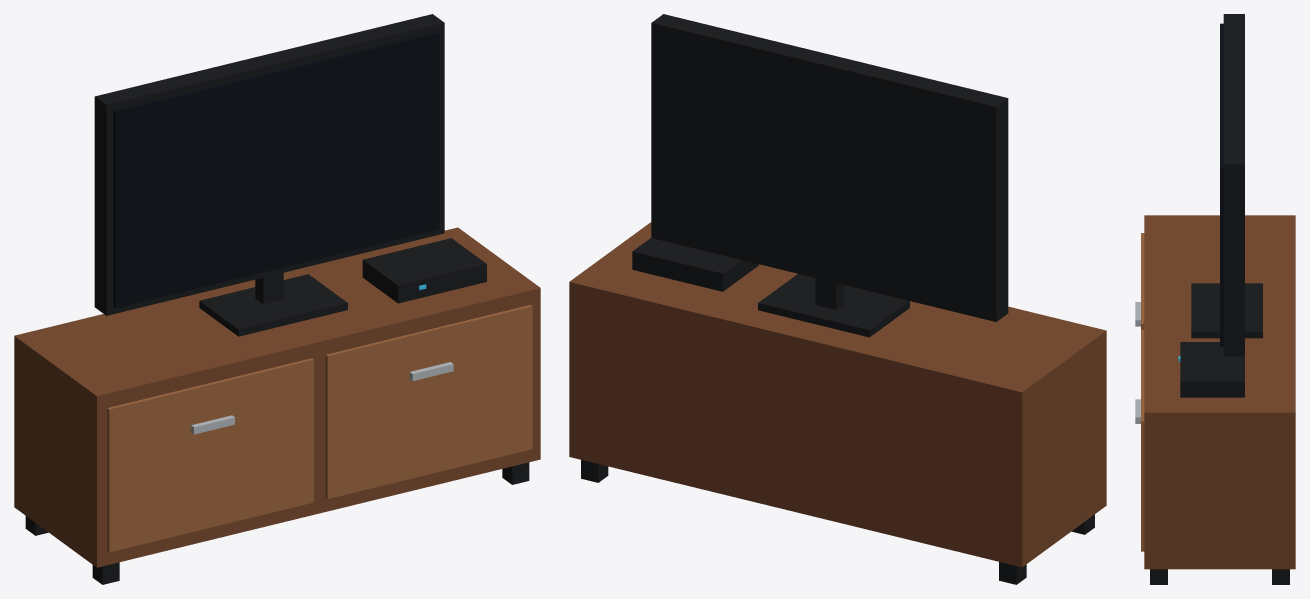
File: lome-tv-meuble.glb
The picture shows the model from 3 angles, left to right: view 1: azimuth 30°, elevation 25°; view 2: azimuth 150°, elevation 25°; view 3: azimuth 270°, elevation 25°; orthographic projection. The views are drawn at different scales.
Parts seen in each view (by area): view 1: ecran, meuble, porte.001, porte, cadre, decodeur, pied-tele, col; view 2: meuble, cadre, pied-tele, decodeur, col; view 3: meuble, cadre, decodeur, pied-tele, ecran, porte.001, porte, pied.002, pied.003.
Part boxes in pixels (left/top/right/bottom): ecran: left=113, top=31, right=439, bottom=308; meuble: left=14, top=227, right=540, bottom=567; porte.001: left=325, top=305, right=532, bottom=498; porte: left=107, top=358, right=313, bottom=552; cadre: left=94, top=14, right=444, bottom=315; decodeur: left=362, top=238, right=486, bottom=303; pied-tele: left=199, top=274, right=347, bottom=336; col: left=255, top=272, right=283, bottom=304; meuble: left=569, top=222, right=1106, bottom=567; cadre: left=651, top=14, right=1008, bottom=321; pied-tele: left=758, top=274, right=909, bottom=337; decodeur: left=632, top=238, right=758, bottom=291; col: left=815, top=278, right=844, bottom=310; meuble: left=1144, top=215, right=1295, bottom=569; cadre: left=1223, top=14, right=1244, bottom=356; decodeur: left=1180, top=342, right=1244, bottom=397; pied-tele: left=1191, top=283, right=1262, bottom=338; ecran: left=1220, top=23, right=1223, bottom=346; porte.001: left=1141, top=330, right=1144, bottom=551; porte: left=1141, top=233, right=1144, bottom=329; pied.002: left=1150, top=569, right=1167, bottom=584; pied.003: left=1272, top=569, right=1289, bottom=584.
Bounding box in the file's own units: 1.3 × 1.23 × 0.445.
